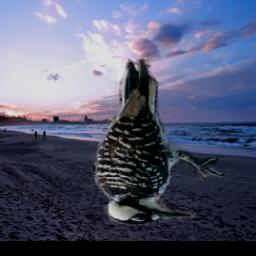Woodpecker: (90, 58, 231, 226)
